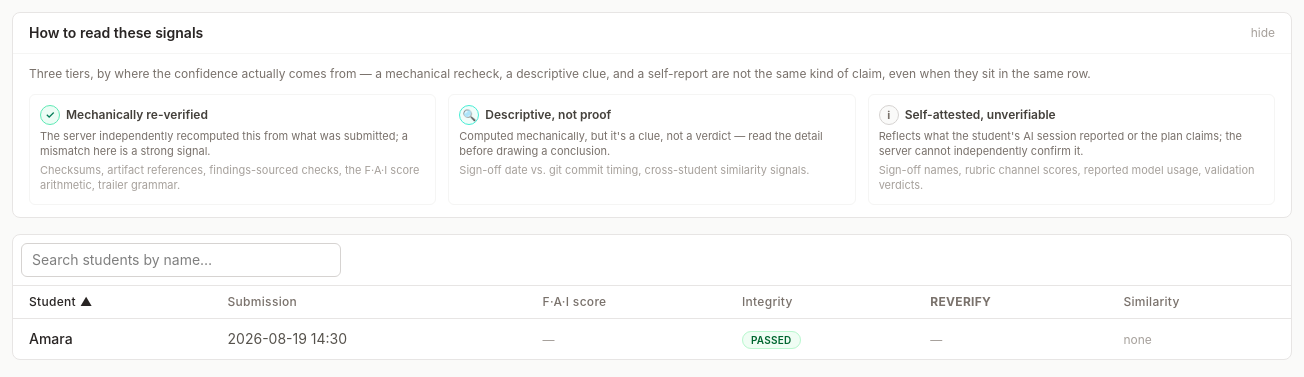
it: Roster drill-in › shows a re-login prompt on a 401 without building its own login form
This screenshot has width=1304, height=377.
Click the text "Amara".
click(51, 338)  # box [13,318,212,358]
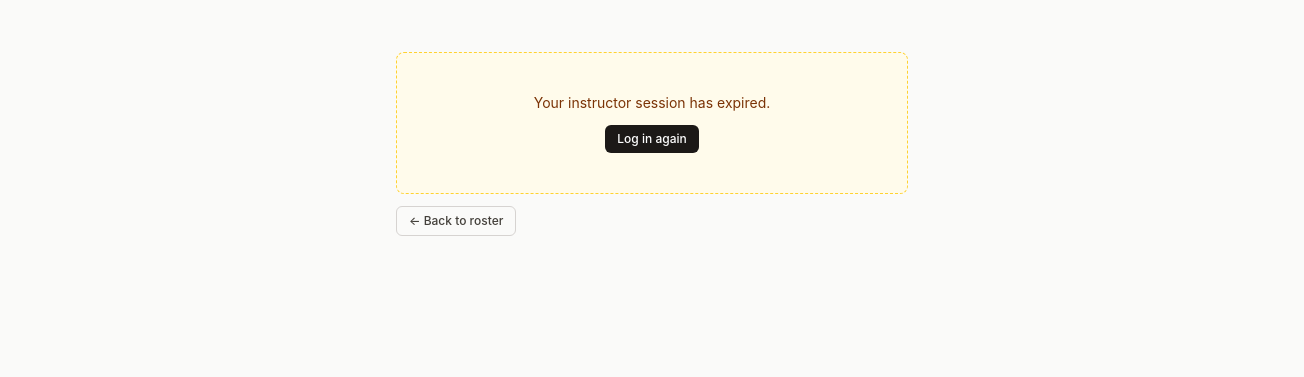
Expected: the text "Your instructor session has expired." is shown, [534,94,770,111]
